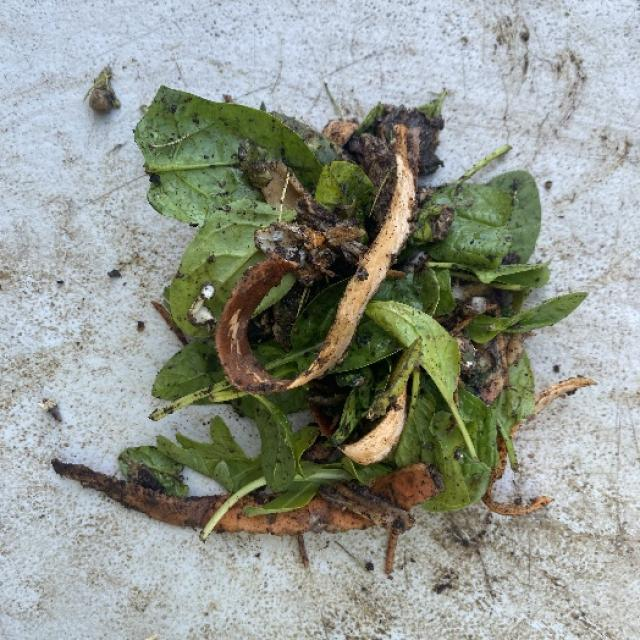organik: (79, 96, 542, 530), (138, 101, 336, 253), (368, 296, 482, 448)
